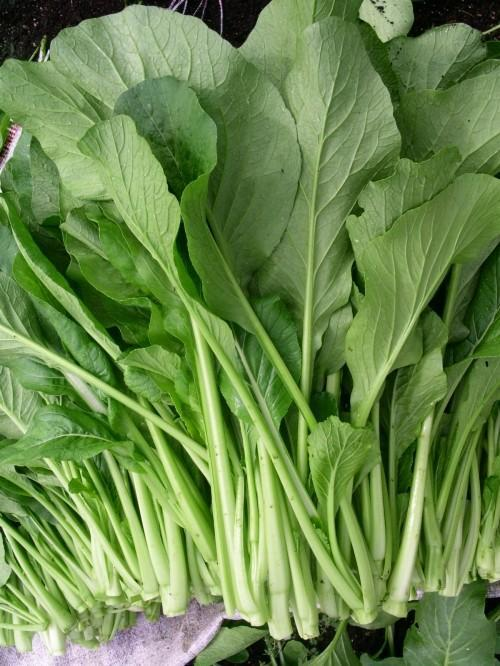Healthy-Pechay: (10, 66, 500, 611)
